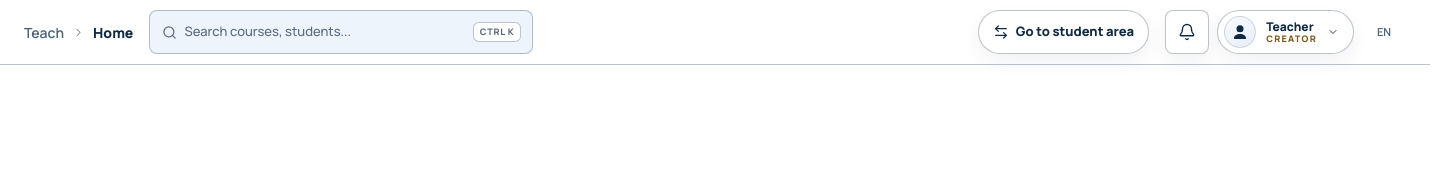
it: idioma na barra do topo da plataforma › troca o idioma sem sair da plataforma, e persiste
Click the button with aria-label "Language: English" at (1384, 32), box [1362,10,1406,54]
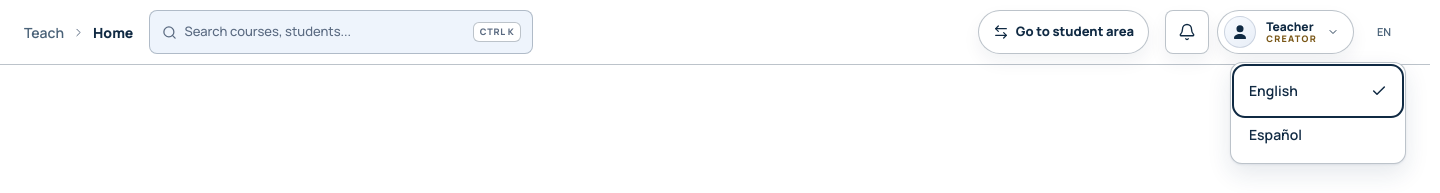
Click the option "Español" at (1318, 135), box [1237,113,1399,157]
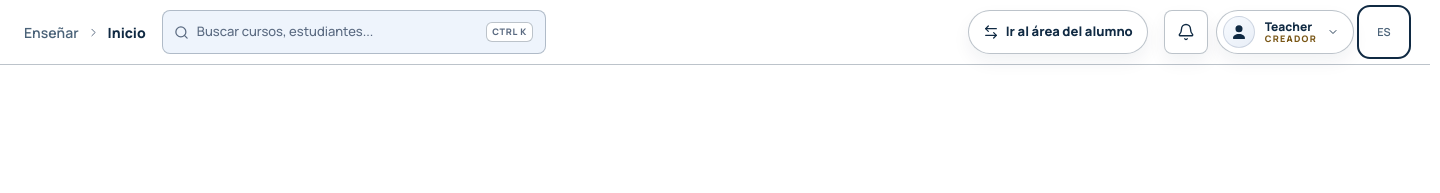
Expected: the button with aria-label "Idioma: Español" is shown, [1362,10,1406,54]
